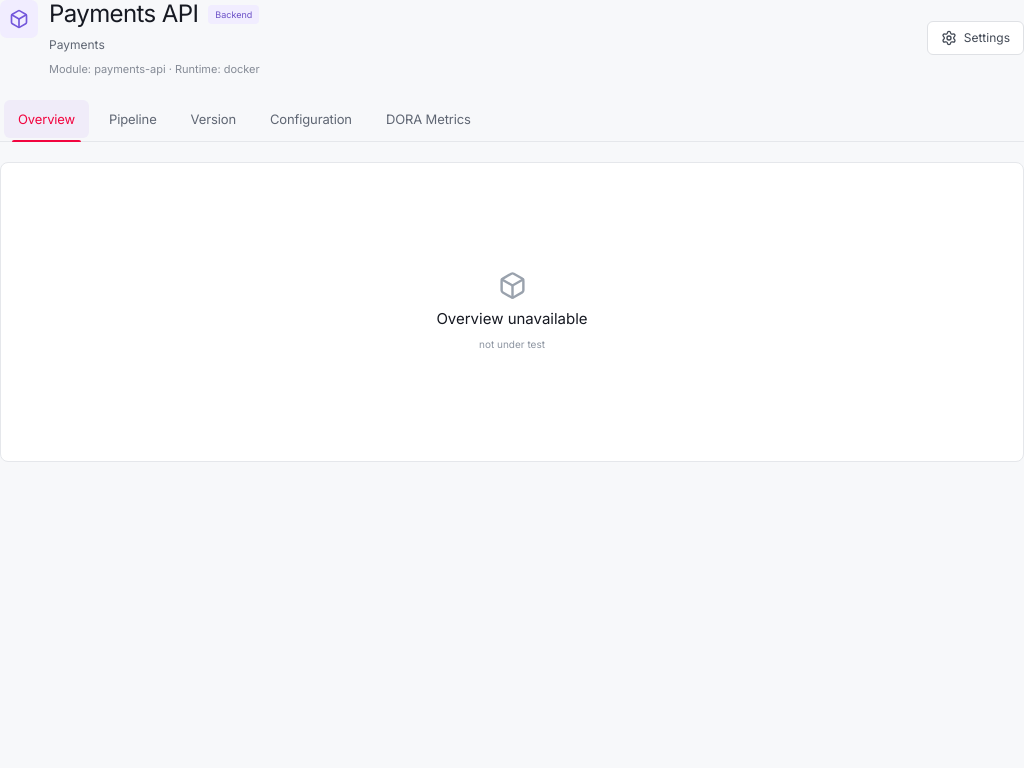
Test: admission and supersession in the portal (ADR-050) › explains the wait on the run page
The width and height of the screenshot is (1024, 768).
expect the heading "Payments API" is shown: met, box [49,0,198,29]
Click the tab "Pipeline": (133, 119) [95,100,171,138]
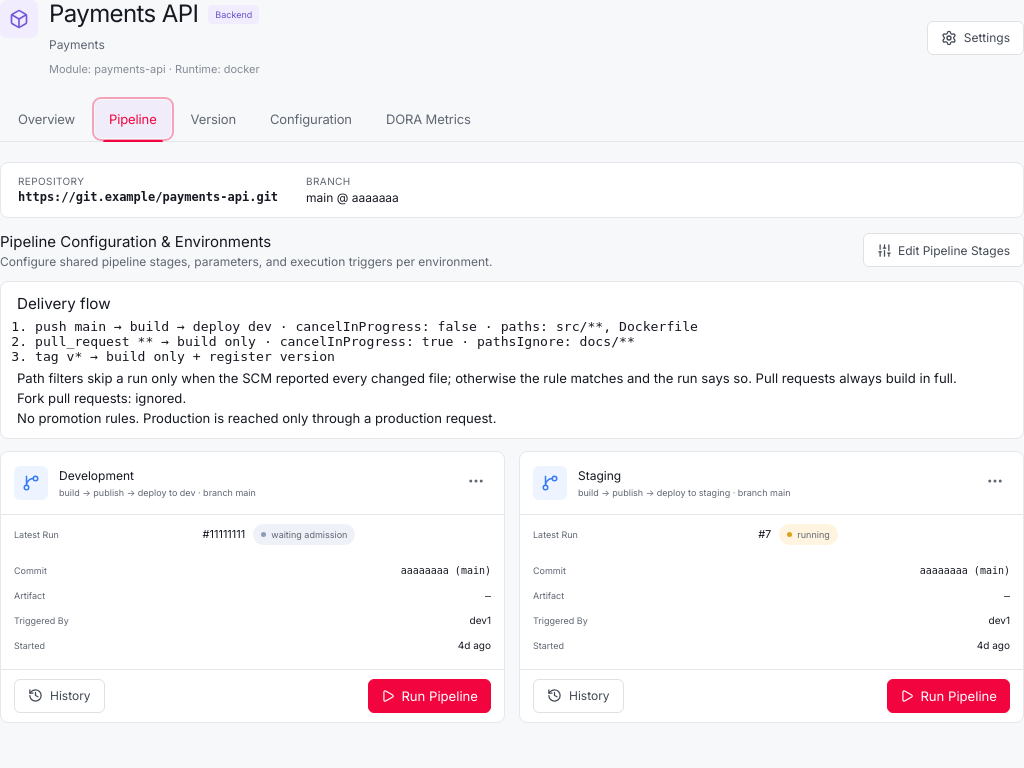
Click the text "waiting admission": (304, 534) [253,524,355,545]
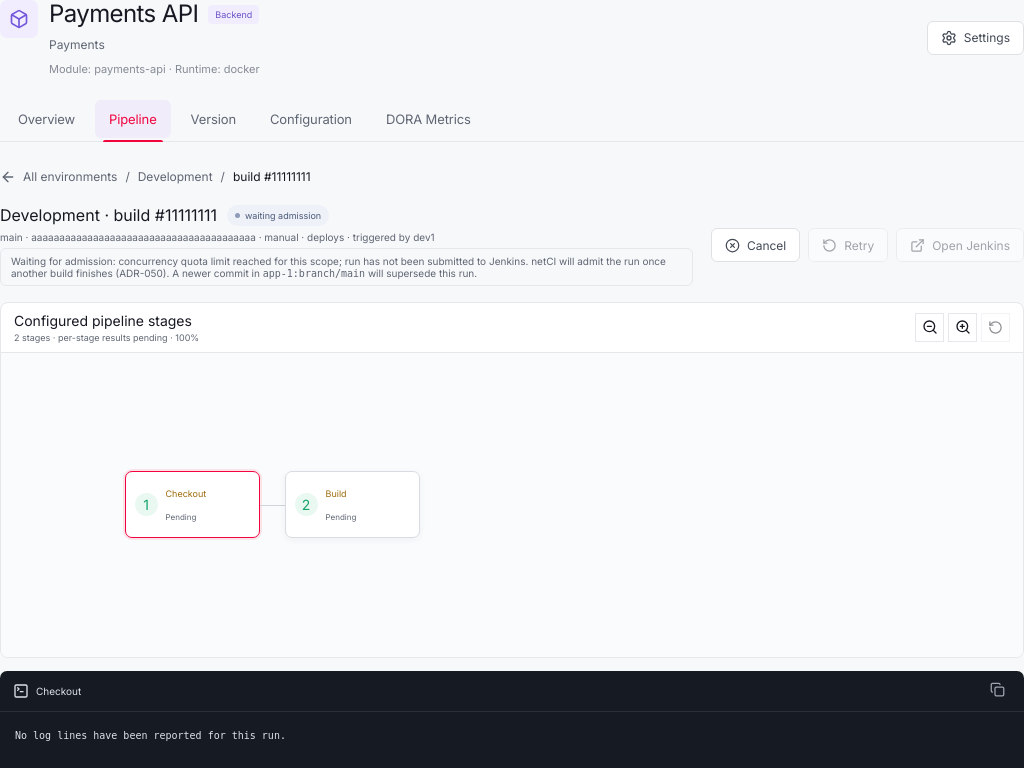
expect the message with test id "run-admission-notice" shows "app-1:branch/main": met, box [263,268,365,279]
expect the text "running" is gone: met
